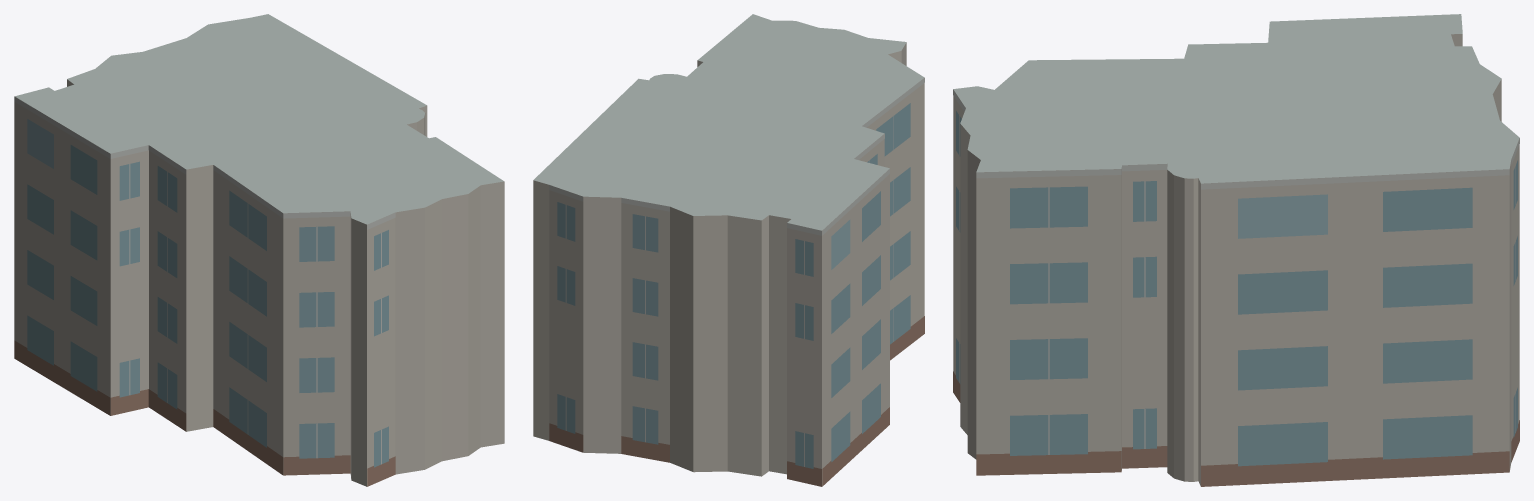
The model's file is survey-upis-32739222.glb.
3 views of the same model, side by side, from view 1: azimuth 30°, elevation 25°; view 2: azimuth 150°, elevation 25°; view 3: azimuth 270°, elevation 25° (orthographic). The views are drawn at different scales.
Visible parts, largest first — view 1: survey-upis-32739222.tmp; view 2: survey-upis-32739222.tmp; view 3: survey-upis-32739222.tmp.
Part boxes in pixels (x1,y1,x2,y2): survey-upis-32739222.tmp: [14, 14, 504, 486]; survey-upis-32739222.tmp: [533, 14, 924, 486]; survey-upis-32739222.tmp: [953, 14, 1519, 486].
Bounding box in the file's own units: 14.52 × 12.1 × 20.5.
